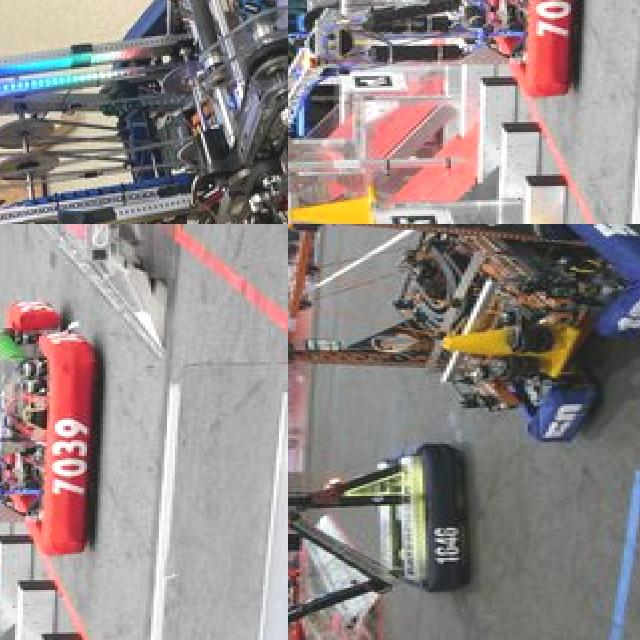FRC-Robots: (288, 224, 640, 452), (0, 0, 288, 224), (288, 0, 587, 139), (288, 431, 479, 640), (0, 267, 103, 597)
